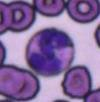N: (26, 27, 75, 76)
